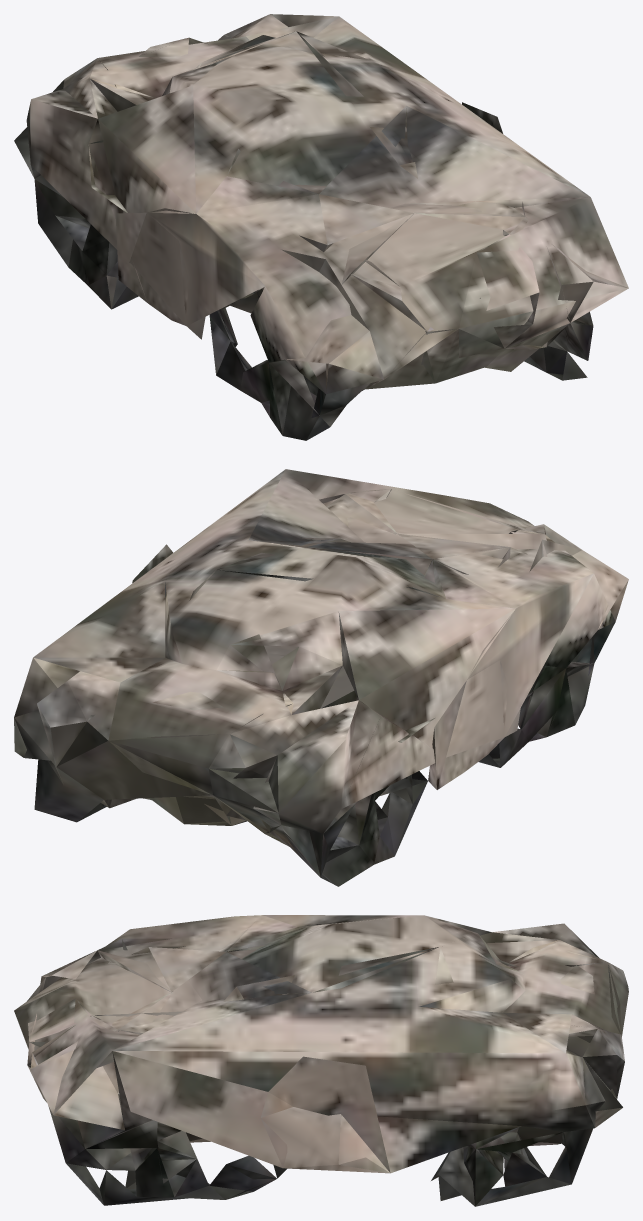
Rendered from deploy_cover_1497690636_lod0.glb.
3 views of the same model, one above another, from view 1: azimuth 30°, elevation 25°; view 2: azimuth 150°, elevation 25°; view 3: azimuth 270°, elevation 25° (orthographic). The views are drawn at different scales.
Bounding box in the file's own units: 1.46 × 1.02 × 2.62.
Materials: 1 (1 with a texture image).
